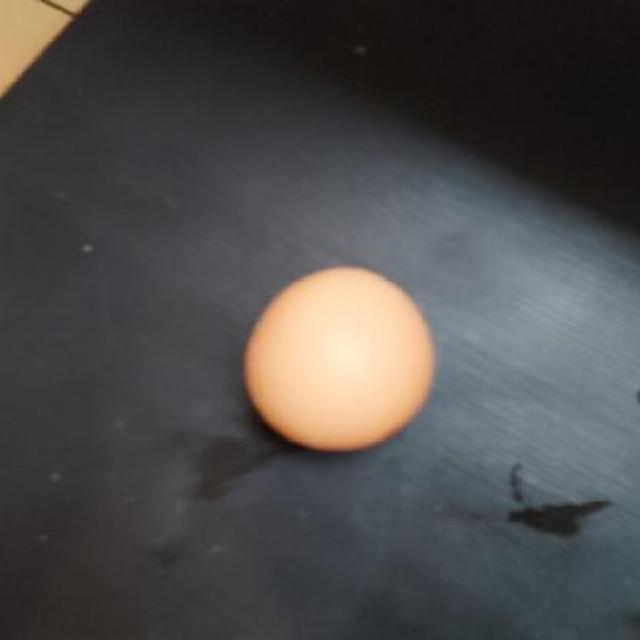biodegradable: (242, 265, 436, 453)
